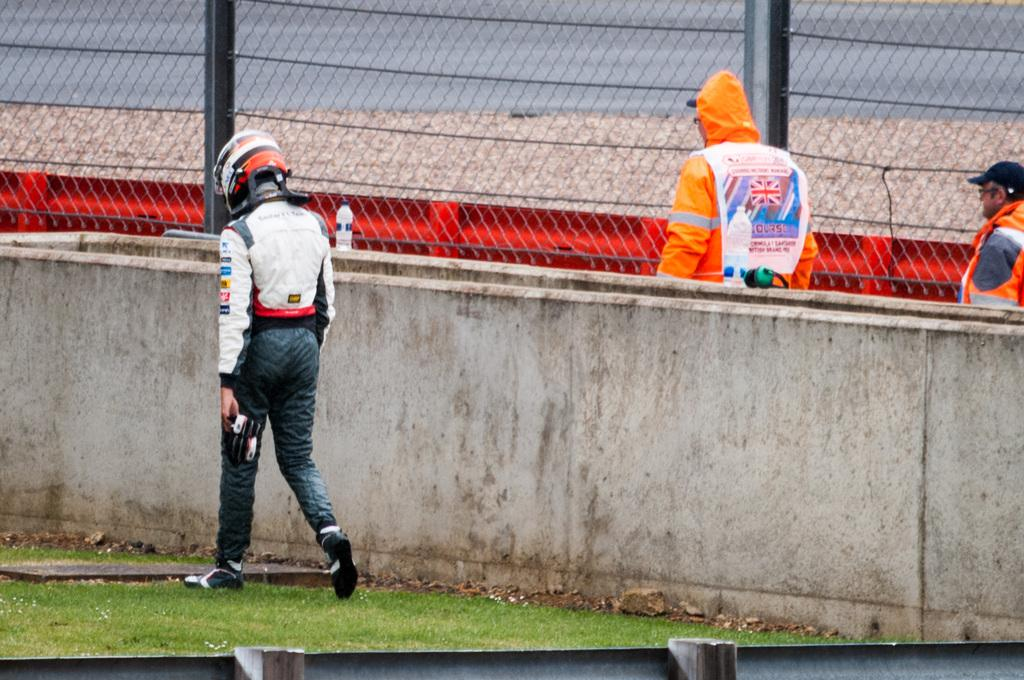helmet: (213, 129, 288, 221)
nohelmet: (685, 68, 752, 155), (965, 159, 1024, 225)
